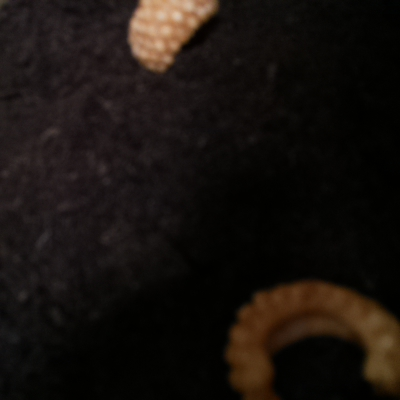eggs: (213, 261, 400, 399), (121, 1, 234, 86)
